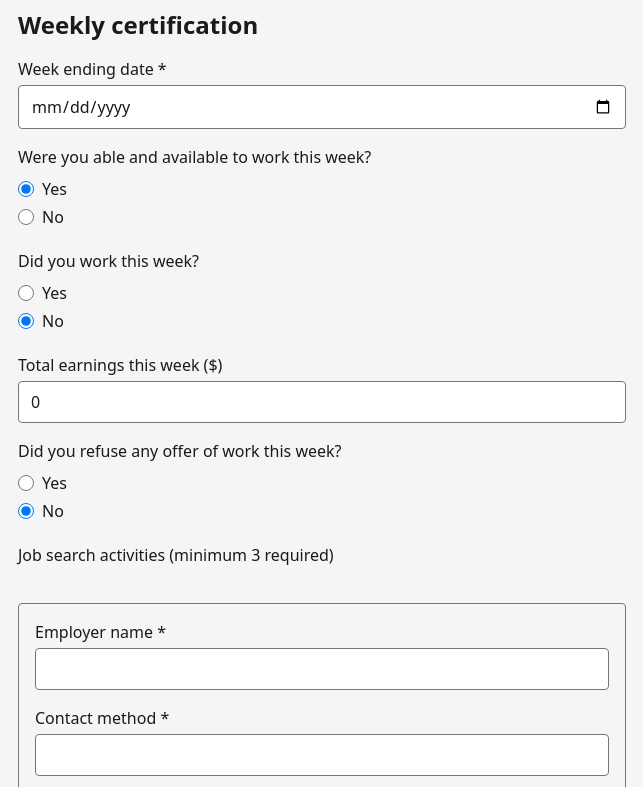
Test: CertifyPage marketplace prefill › lets a removed application reappear for a different week whose window still matches it
Type "2026-08-15" into the date field labelled "Week ending date *" at (322, 107), box 18,85 -> 626,129
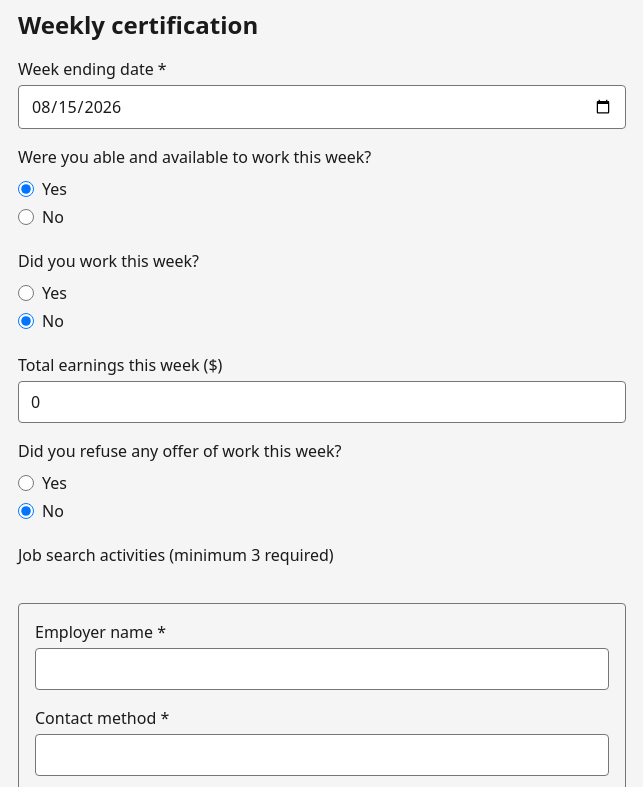
Leave the date field labelled "Week ending date *", box 18,85 -> 626,129
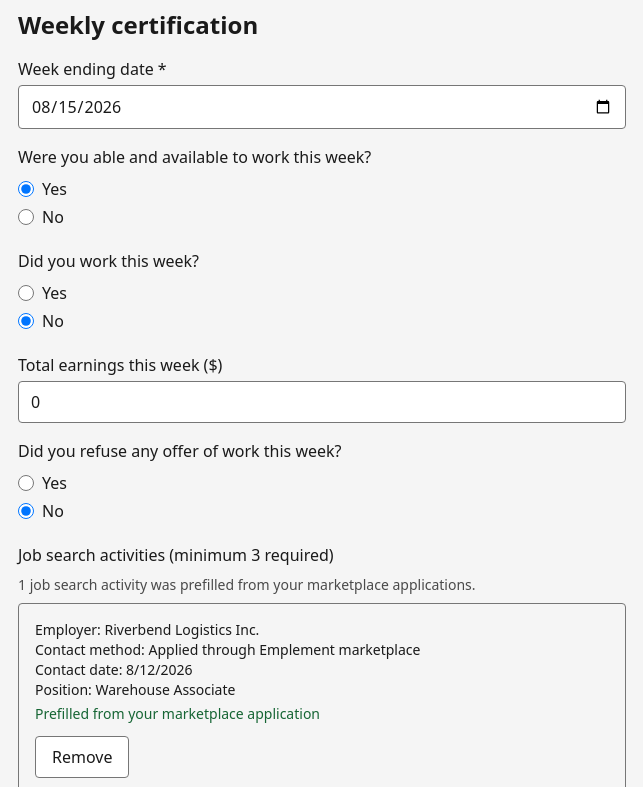
Expected: the text "Riverbend Logistics Inc." is shown, 104,620 -> 259,639
Click the button "Remove" at (82, 757), box 35,736 -> 130,778
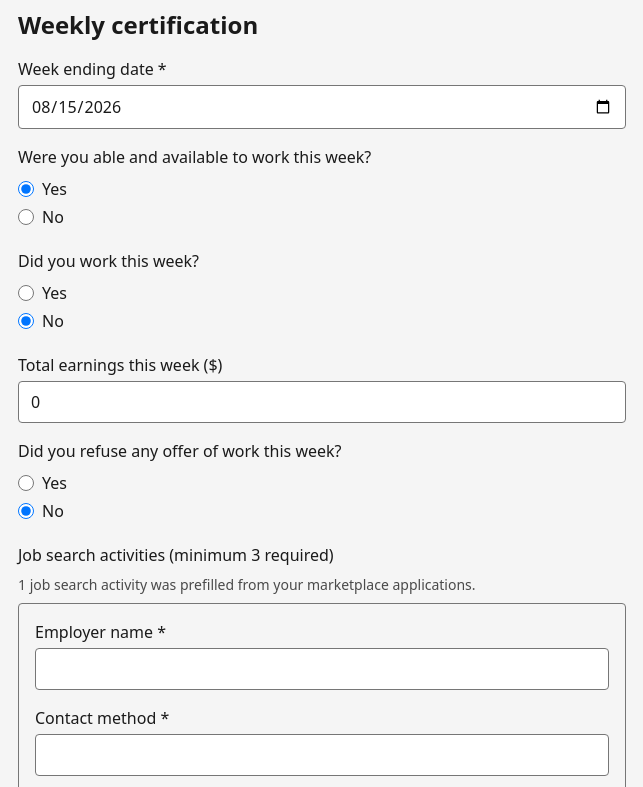
Expected: the text "Riverbend Logistics Inc." is gone
Type "2026-08-16" into the date field labelled "Week ending date *" at (322, 107), box 18,85 -> 626,129
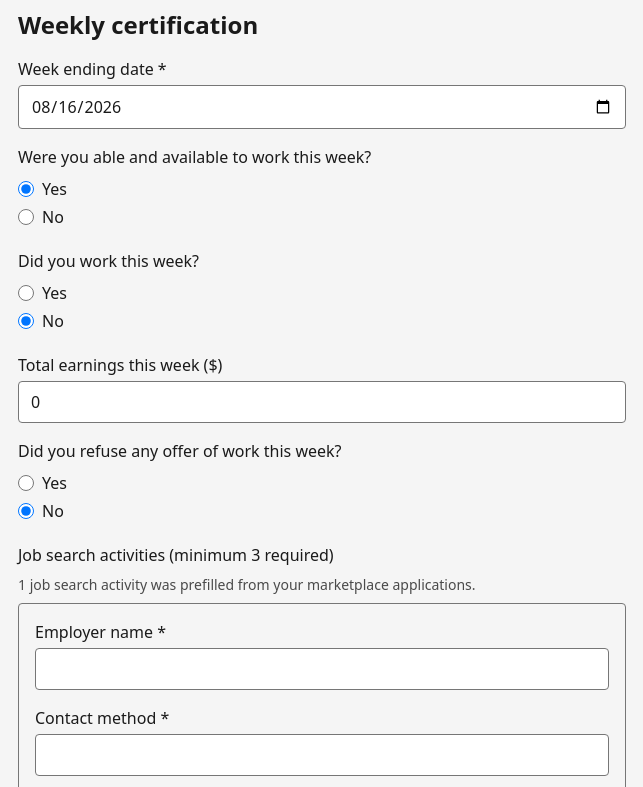
Leave the date field labelled "Week ending date *", box 18,85 -> 626,129
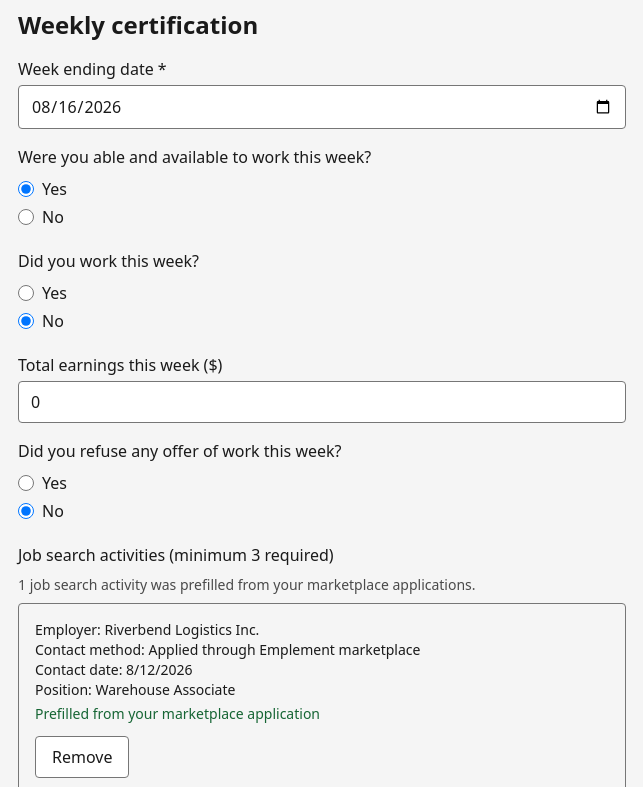
Expected: the text "Riverbend Logistics Inc." is shown, 104,620 -> 259,639
